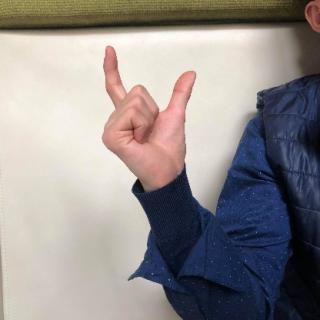NOON: (95, 42, 198, 187)
